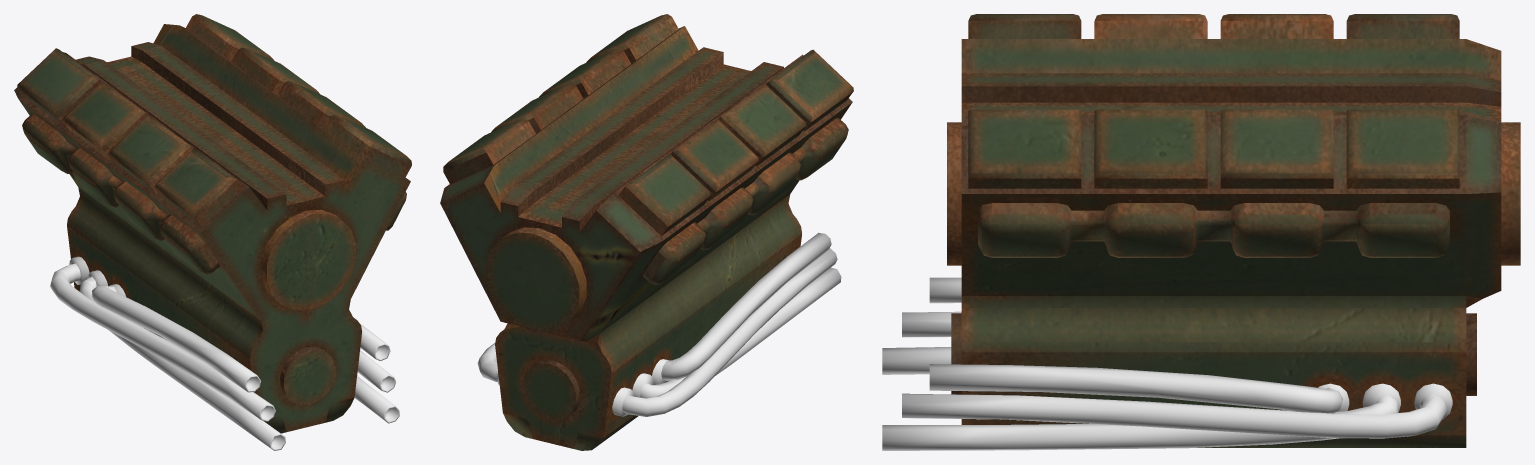
File: engine.glb
3 views of the same model, side by side, from view 1: azimuth 30°, elevation 25°; view 2: azimuth 150°, elevation 25°; view 3: azimuth 270°, elevation 25° (orthographic). The views are drawn at different scales.
Parts seen in each view (by area): view 1: engine; view 2: engine; view 3: engine.
Boxes of the visible parts, x1,y1,x2,y2 form: engine: (14,14,411,450); engine: (440,14,853,450); engine: (882,14,1520,450).
Bounding box in the file's own units: 0.2011 × 0.2301 × 0.3651.
Materials: 2 (1 with a texture image).
